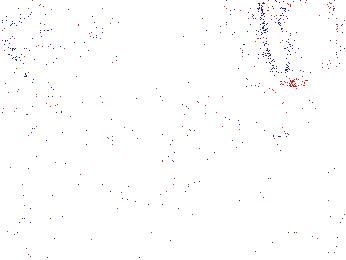moon jellyfish: (260, 1, 339, 88), (205, 80, 294, 134), (1, 1, 99, 49), (311, 47, 346, 141), (1, 30, 28, 99)
